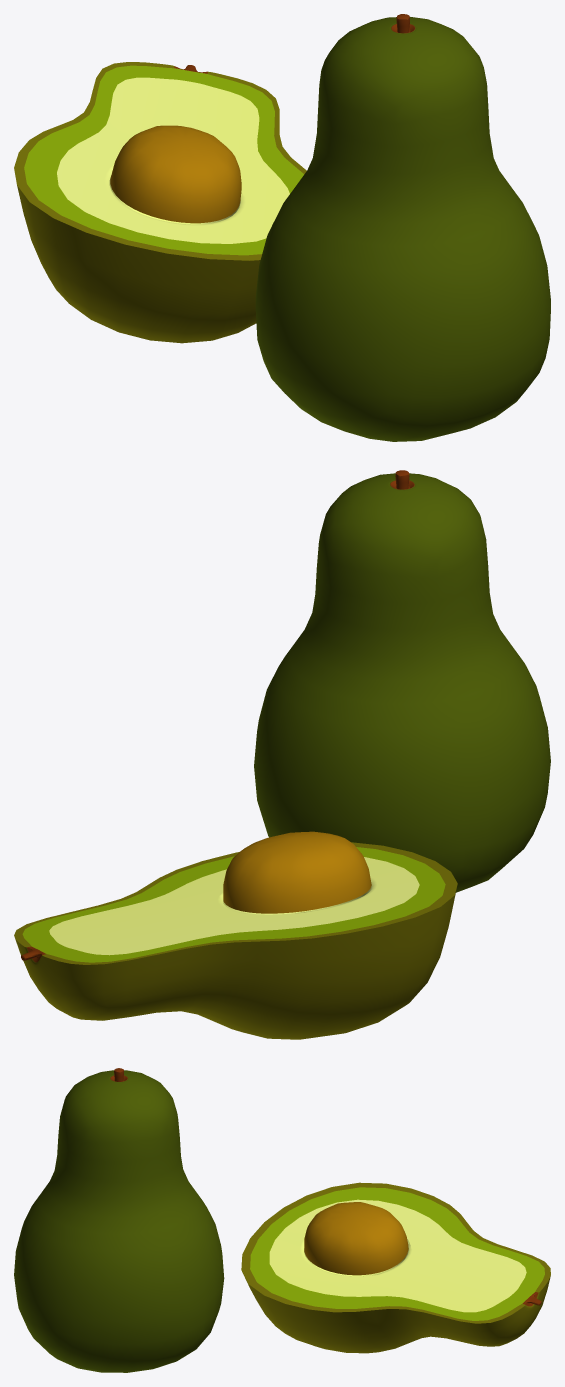
The model's file is Avocados.fbx.
3 renders of one model, top to bottom at view 1: azimuth 30°, elevation 25°; view 2: azimuth 150°, elevation 25°; view 3: azimuth 270°, elevation 25°, orthographic. The views are drawn at different scales.
Visible parts, largest first — view 1: Cube.022, Cube.023, Cube.027, Cube.024, Cube.026; view 2: Cube.022, Cube.023, Cube.027, Cube.024, Cube.026; view 3: Cube.022, Cube.027, Cube.023, Cube.026, Cube.024.
Boxes of the visible parts, <box> form: Cube.022: <box>255,17,550,441</box>; Cube.023: <box>14,62,306,343</box>; Cube.027: <box>57,77,289,243</box>; Cube.024: <box>110,125,241,223</box>; Cube.026: <box>24,65,303,255</box>; Cube.022: <box>254,473,550,892</box>; Cube.023: <box>14,842,457,1039</box>; Cube.027: <box>49,857,419,955</box>; Cube.024: <box>223,831,371,913</box>; Cube.026: <box>22,847,445,962</box>; Cube.022: <box>14,1070,224,1372</box>; Cube.027: <box>269,1199,526,1312</box>; Cube.023: <box>241,1182,550,1353</box>; Cube.026: <box>250,1187,544,1320</box>; Cube.024: <box>304,1202,408,1275</box>.
Size of the model in its own units: 134 by 160 by 263.
1 material, 1 textured.
